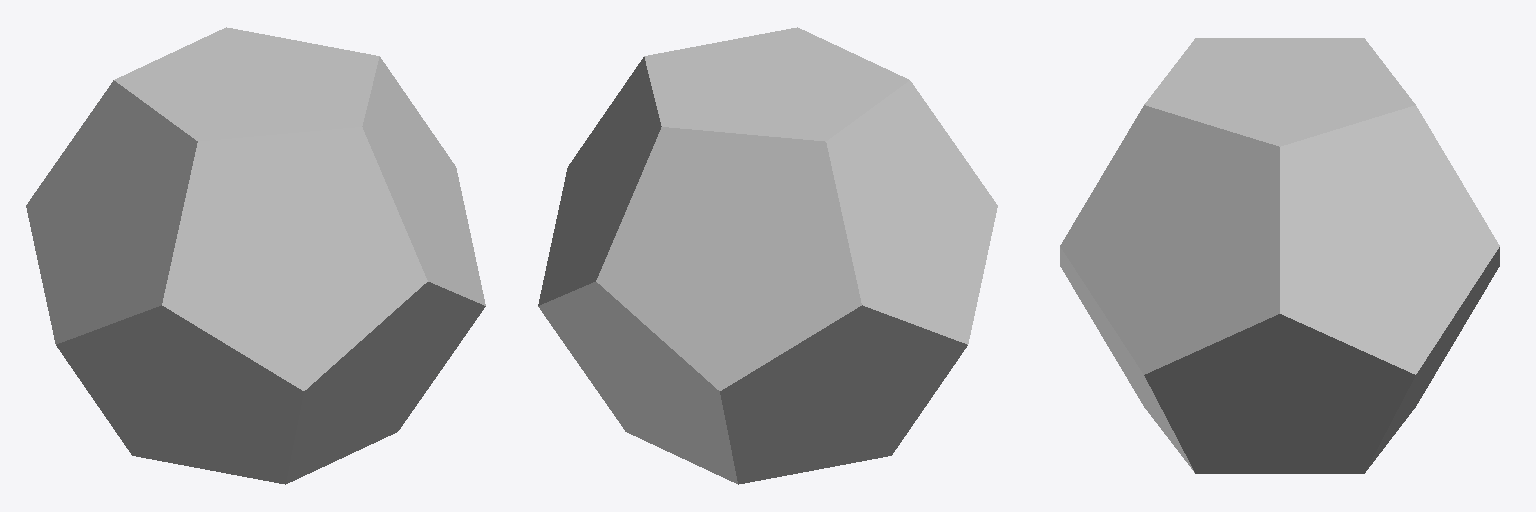
Rendered from Dodecahedron.obj.
3 views of the same model, side by side, from view 1: azimuth 30°, elevation 25°; view 2: azimuth 150°, elevation 25°; view 3: azimuth 270°, elevation 25° (orthographic).
Parts seen in each view (by area): view 1: Dodecahedron; view 2: Dodecahedron; view 3: Dodecahedron.
Boxes of the visible parts, <box> form: Dodecahedron: <box>26,27,485,484</box>; Dodecahedron: <box>538,27,997,484</box>; Dodecahedron: <box>1060,38,1499,473</box>.
Size of the model in its own units: 1.26 by 1.02 by 1.2.